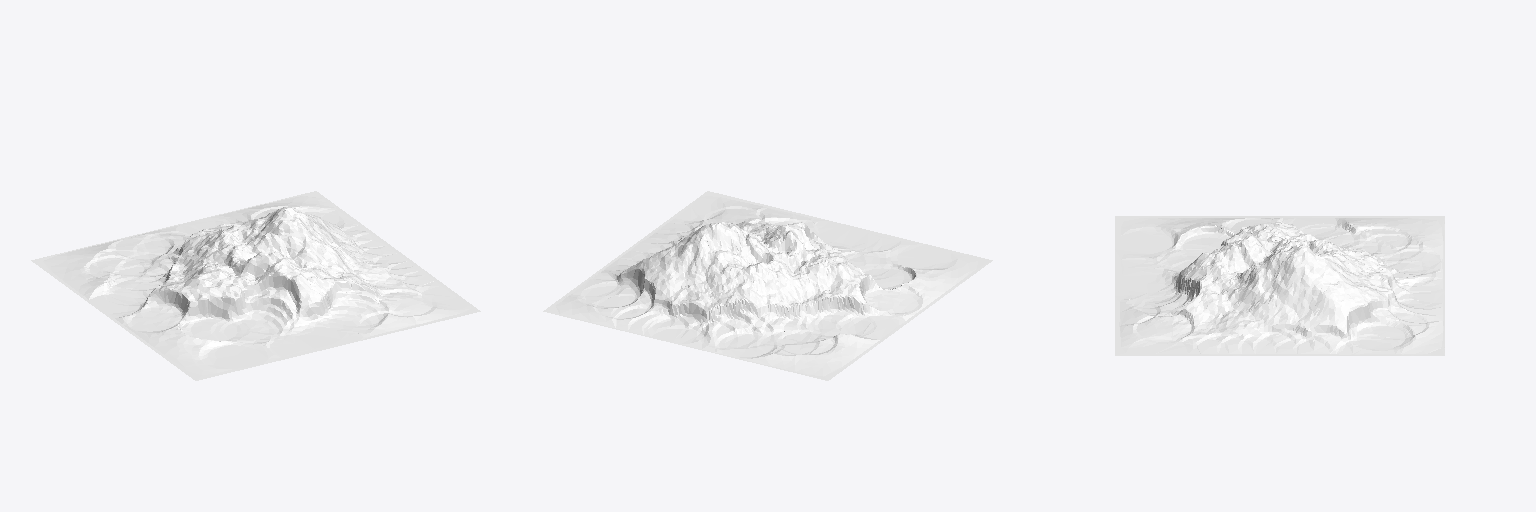
File: Small1.obj
The picture shows the model from 3 angles: view 1: azimuth 30°, elevation 25°; view 2: azimuth 150°, elevation 25°; view 3: azimuth 270°, elevation 25°; orthographic projection.
Visible parts, largest first — view 1: island_sec1.001; view 2: island_sec1.001; view 3: island_sec1.001.
Part boxes in pixels (x1,y1,x2,y2): island_sec1.001: (31,191,480,380); island_sec1.001: (543,191,992,380); island_sec1.001: (1115,216,1444,355).
Bounding box in the file's own units: 139 × 28.04 × 139.